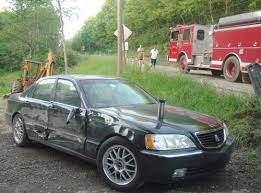Dent: (32, 128, 74, 143), (87, 112, 116, 126)
